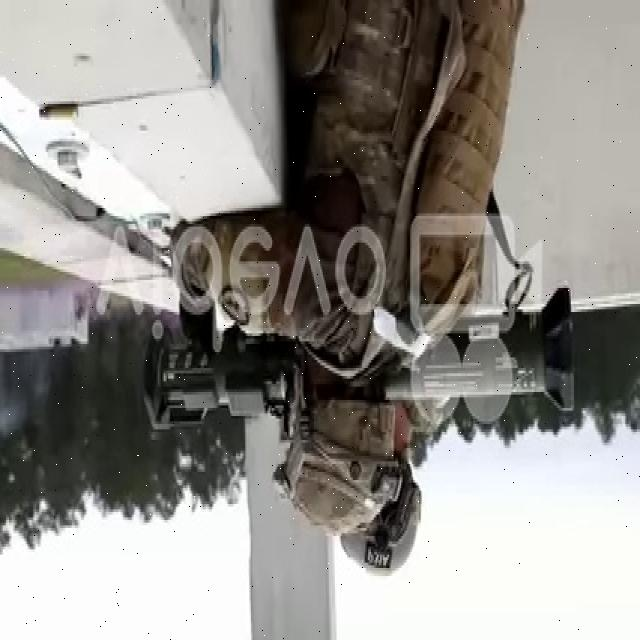bazooka: (138, 278, 584, 448)
